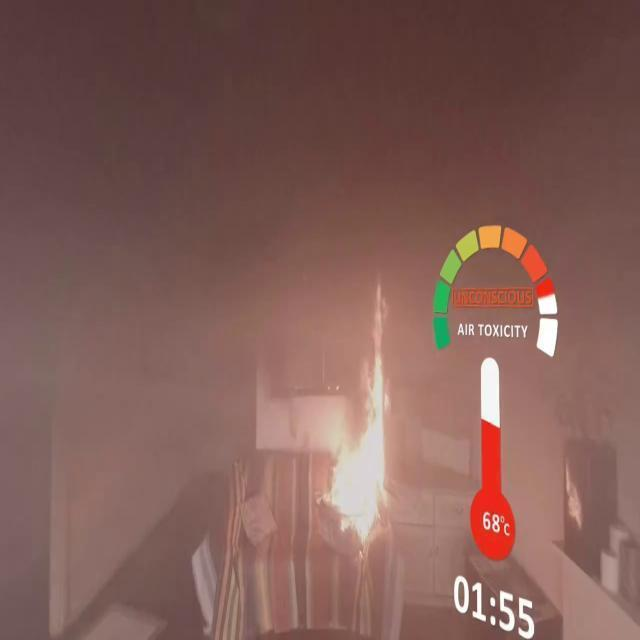Fire: (286, 39, 419, 640)
Smoke: (40, 0, 267, 637)
